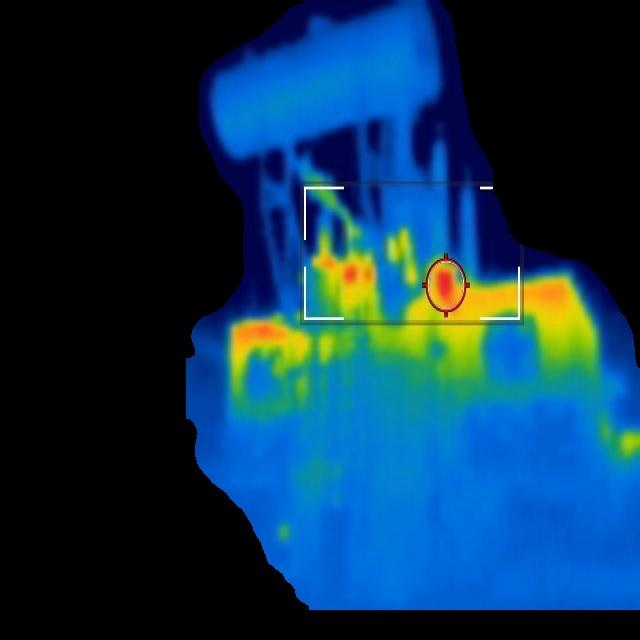Loose Joint F: (431, 264, 458, 307), (317, 253, 335, 274), (343, 264, 360, 285)
Transformer Overload: (228, 285, 614, 400)
